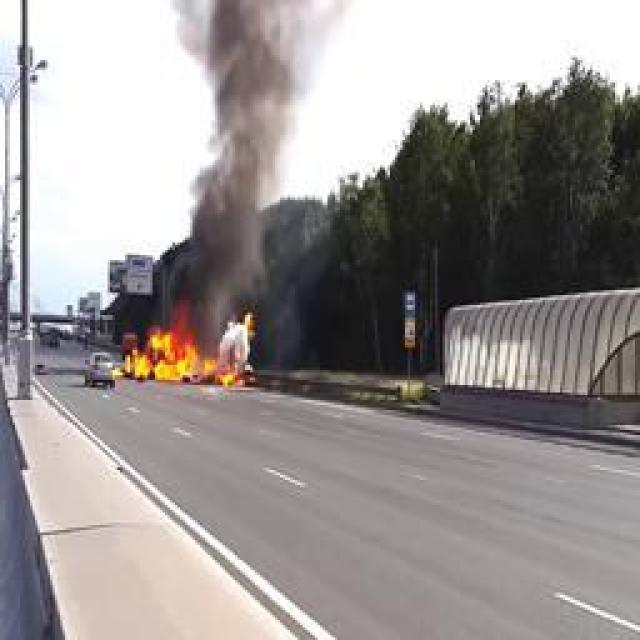Fire: (117, 310, 250, 392)
